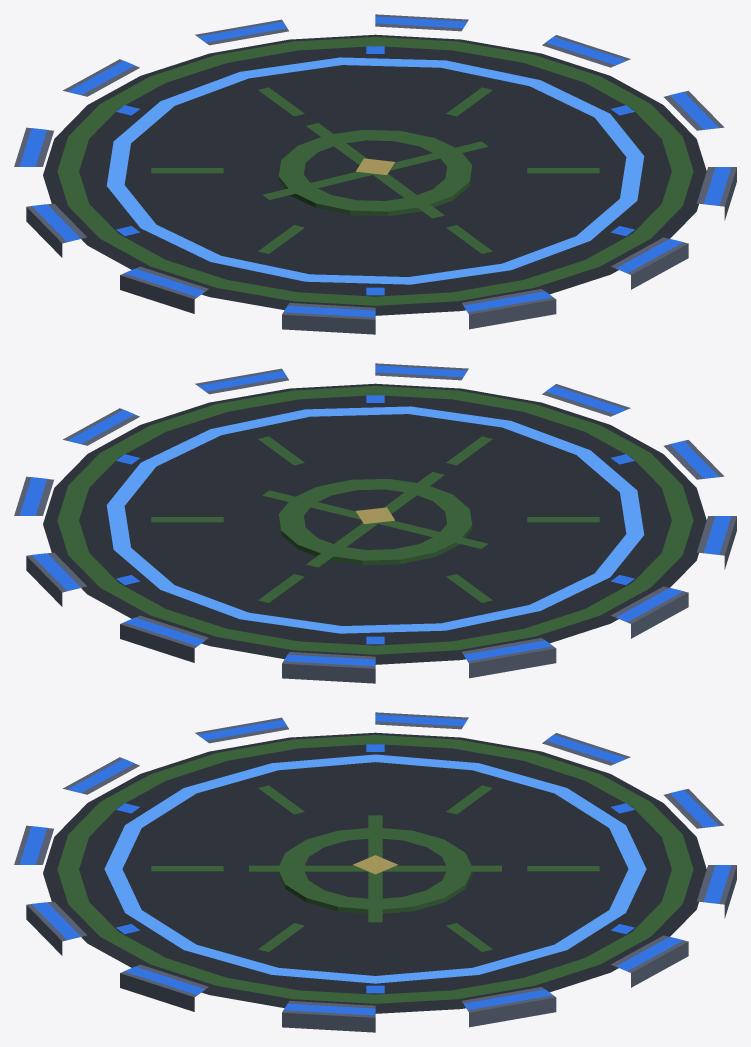
The model's file is sniper_super_rare_area.glb.
3 views of the same model, one above another, from view 1: azimuth 30°, elevation 25°; view 2: azimuth 150°, elevation 25°; view 3: azimuth 270°, elevation 25° (orthographic).
Parts seen in each view (by area): view 1: sniper_super_rare_area; view 2: sniper_super_rare_area; view 3: sniper_super_rare_area.
Part boxes in pixels (bbox=[...]): sniper_super_rare_area: bbox=[14, 14, 736, 334]; sniper_super_rare_area: bbox=[14, 363, 736, 683]; sniper_super_rare_area: bbox=[14, 712, 736, 1032].
Size of the model in its own units: 2 by 0.046 by 2.
Materials: 2 (2 with a texture image).
